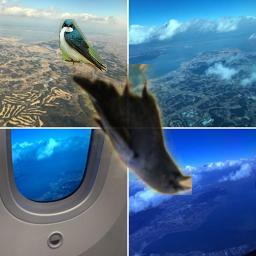Crow: (71, 64, 192, 195)
Swallow: (59, 19, 107, 72)
